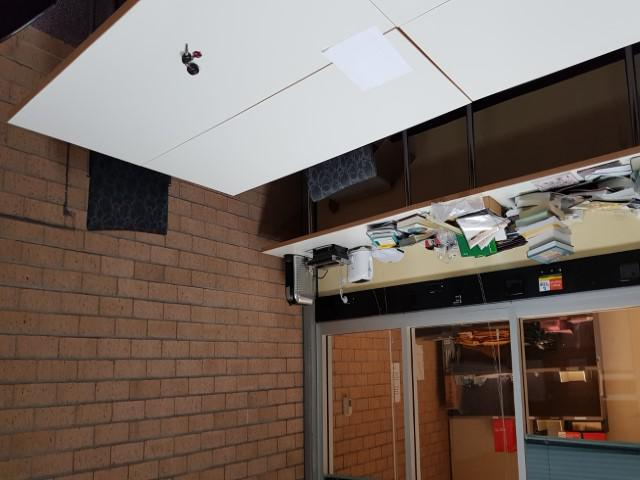key: (182, 43, 193, 63)
